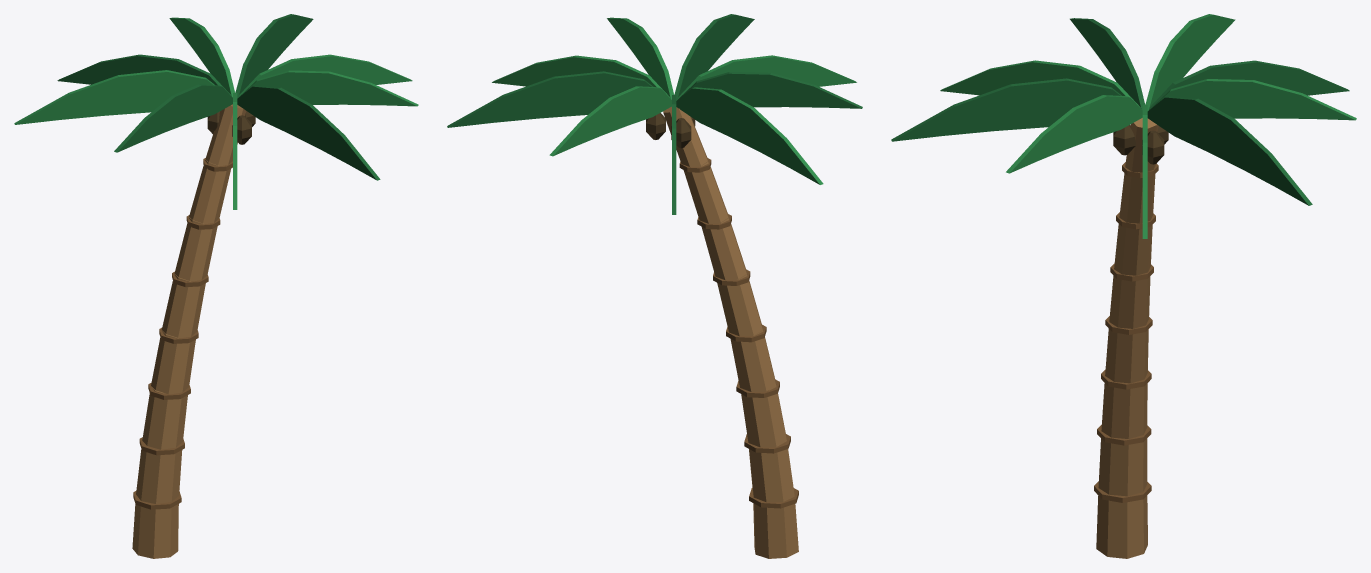
File: palmera.glb
3 views of the same model, side by side, from view 1: azimuth 30°, elevation 25°; view 2: azimuth 150°, elevation 25°; view 3: azimuth 270°, elevation 25° (orthographic). The views are drawn at different scales.
Visible parts, largest first — view 1: hojas_a, hojas_b, tronco, tronco.001, tronco.002, tronco.003, tronco.004, tronco.005, tronco.006, tronco.007; view 2: hojas_a, hojas_b, tronco, tronco.001, tronco.002, tronco.003, tronco.004, tronco.005, tronco.006, tronco.007; view 3: hojas_b, hojas_a, tronco, tronco.001, tronco.002, tronco.003, tronco.004, tronco.005, tronco.006, tronco.007.
Part boxes in pixels (x1=…): hojas_a: x1=14, y1=17, x2=418, y2=209; hojas_b: x1=57, y1=14, x2=380, y2=180; tronco: x1=132, y1=504, x2=178, y2=558; tronco.001: x1=136, y1=449, x2=182, y2=503; tronco.002: x1=142, y1=387, x2=187, y2=449; tronco.003: x1=151, y1=330, x2=195, y2=394; tronco.004: x1=162, y1=274, x2=205, y2=337; tronco.005: x1=174, y1=217, x2=217, y2=281; tronco.006: x1=189, y1=159, x2=231, y2=223; tronco.007: x1=205, y1=104, x2=246, y2=165; hojas_a: x1=492, y1=17, x2=856, y2=184; hojas_b: x1=447, y1=14, x2=862, y2=214; tronco: x1=753, y1=503, x2=798, y2=558; tronco.001: x1=749, y1=449, x2=794, y2=502; tronco.002: x1=741, y1=386, x2=786, y2=447; tronco.003: x1=730, y1=327, x2=776, y2=391; tronco.004: x1=717, y1=270, x2=762, y2=336; tronco.005: x1=701, y1=214, x2=746, y2=280; tronco.006: x1=683, y1=159, x2=728, y2=223; tronco.007: x1=663, y1=106, x2=707, y2=166; hojas_b: x1=891, y1=18, x2=1349, y2=205; hojas_a: x1=940, y1=14, x2=1356, y2=238; tronco: x1=1096, y1=495, x2=1147, y2=558; tronco.001: x1=1098, y1=438, x2=1147, y2=496; tronco.002: x1=1101, y1=383, x2=1147, y2=438; tronco.003: x1=1105, y1=329, x2=1148, y2=383; tronco.004: x1=1109, y1=275, x2=1150, y2=334; tronco.005: x1=1114, y1=224, x2=1152, y2=281; tronco.006: x1=1119, y1=173, x2=1155, y2=229; tronco.007: x1=1125, y1=118, x2=1158, y2=178.
Bounding box in the file's own units: 2.08 × 2.52 × 2.03.
